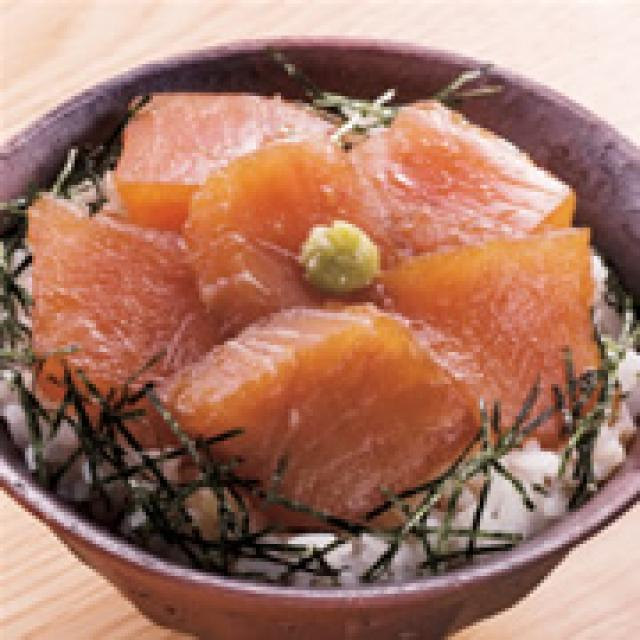刺身生食: (0, 32, 640, 640)
